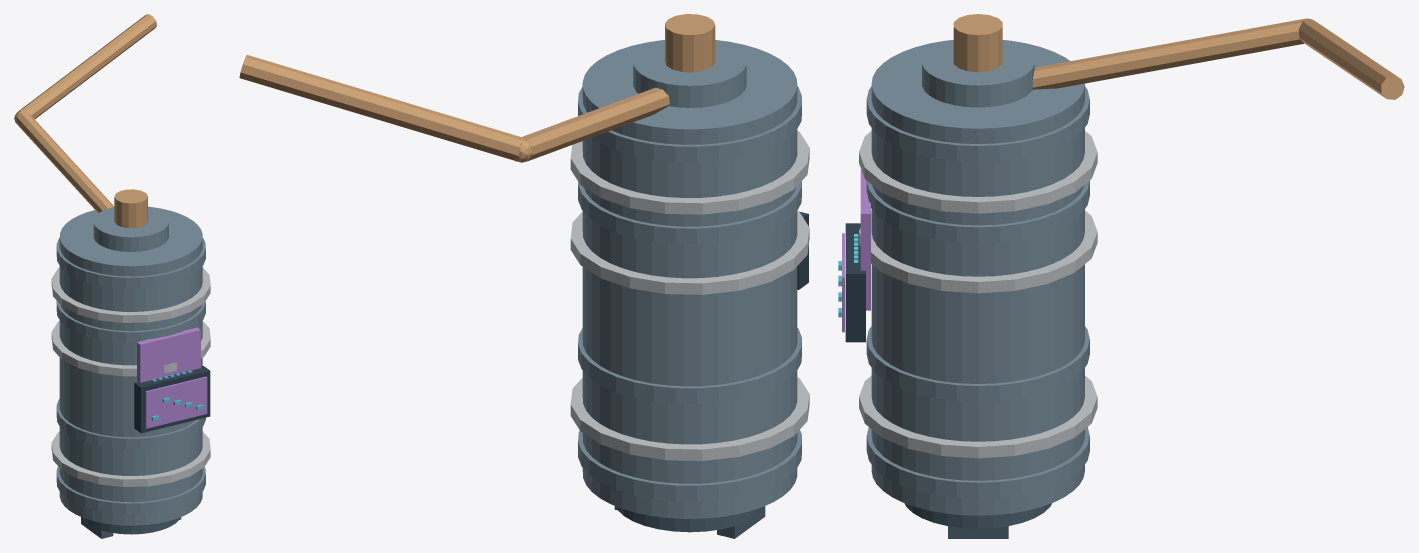
Rendered from 03_L75_VirtualDopantSourceCartridge.glb.
The picture shows the model from 3 angles, left to right: view 1: azimuth 30°, elevation 25°; view 2: azimuth 150°, elevation 25°; view 3: azimuth 270°, elevation 25°; orthographic projection. The views are drawn at different scales.
Parts seen in each view (by area): view 1: VirtualDopantSourceCartridge_Node_0000, VirtualDopantSourceCartridge_Node_0034, VirtualDopantSourceCartridge_Node_0010, VirtualDopantSourceCartridge_Node_0011, VirtualDopantSourceCartridge_Node_0025, VirtualDopantSourceCartridge_Node_0023, VirtualDopantSourceCartridge_Node_0027, VirtualDopantSourceCartridge_Node_0033, VirtualDopantSourceCartridge_Node_0008, VirtualDopantSourceCartridge_Node_0002, VirtualDopantSourceCartridge_Node_0004, VirtualDopantSourceCartridge_Node_0006 (+4 smaller); view 2: VirtualDopantSourceCartridge_Node_0000, VirtualDopantSourceCartridge_Node_0034, VirtualDopantSourceCartridge_Node_0024, VirtualDopantSourceCartridge_Node_0023, VirtualDopantSourceCartridge_Node_0025, VirtualDopantSourceCartridge_Node_0011, VirtualDopantSourceCartridge_Node_0004, VirtualDopantSourceCartridge_Node_0002, VirtualDopantSourceCartridge_Node_0006, VirtualDopantSourceCartridge_Node_0008, VirtualDopantSourceCartridge_Node_0033, VirtualDopantSourceCartridge_Node_0013 (+1 smaller); view 3: VirtualDopantSourceCartridge_Node_0000, VirtualDopantSourceCartridge_Node_0033, VirtualDopantSourceCartridge_Node_0011, VirtualDopantSourceCartridge_Node_0025, VirtualDopantSourceCartridge_Node_0023, VirtualDopantSourceCartridge_Node_0024, VirtualDopantSourceCartridge_Node_0004, VirtualDopantSourceCartridge_Node_0008, VirtualDopantSourceCartridge_Node_0002, VirtualDopantSourceCartridge_Node_0006, VirtualDopantSourceCartridge_Node_0034, VirtualDopantSourceCartridge_Node_0013 (+4 smaller).
Boxes of the visible parts, left/top/right/bottom form: VirtualDopantSourceCartridge_Node_0000: left=59, top=206, right=202, bottom=525; VirtualDopantSourceCartridge_Node_0034: left=17, top=14, right=156, bottom=118; VirtualDopantSourceCartridge_Node_0010: left=137, top=327, right=200, bottom=382; VirtualDopantSourceCartridge_Node_0011: left=93, top=207, right=168, bottom=251; VirtualDopantSourceCartridge_Node_0025: left=51, top=267, right=210, bottom=322; VirtualDopantSourceCartridge_Node_0023: left=51, top=431, right=210, bottom=486; VirtualDopantSourceCartridge_Node_0027: left=145, top=376, right=207, bottom=428; VirtualDopantSourceCartridge_Node_0033: left=15, top=112, right=114, bottom=213; VirtualDopantSourceCartridge_Node_0008: left=56, top=238, right=205, bottom=288; VirtualDopantSourceCartridge_Node_0002: left=56, top=466, right=205, bottom=513; VirtualDopantSourceCartridge_Node_0004: left=56, top=398, right=205, bottom=449; VirtualDopantSourceCartridge_Node_0006: left=56, top=301, right=205, bottom=342; VirtualDopantSourceCartridge_Node_0000: left=582, top=40, right=797, bottom=518; VirtualDopantSourceCartridge_Node_0034: left=239, top=55, right=524, bottom=161; VirtualDopantSourceCartridge_Node_0024: left=570, top=211, right=809, bottom=294; VirtualDopantSourceCartridge_Node_0023: left=570, top=377, right=809, bottom=460; VirtualDopantSourceCartridge_Node_0025: left=570, top=130, right=809, bottom=214; VirtualDopantSourceCartridge_Node_0011: left=633, top=40, right=746, bottom=107; VirtualDopantSourceCartridge_Node_0004: left=578, top=328, right=801, bottom=403; VirtualDopantSourceCartridge_Node_0002: left=578, top=430, right=801, bottom=501; VirtualDopantSourceCartridge_Node_0006: left=578, top=181, right=801, bottom=244; VirtualDopantSourceCartridge_Node_0008: left=578, top=86, right=801, bottom=162; VirtualDopantSourceCartridge_Node_0033: left=521, top=87, right=669, bottom=161; VirtualDopantSourceCartridge_Node_0013: left=665, top=14, right=715, bottom=72; VirtualDopantSourceCartridge_Node_0000: left=871, top=40, right=1084, bottom=515; VirtualDopantSourceCartridge_Node_0033: left=1032, top=18, right=1305, bottom=89; VirtualDopantSourceCartridge_Node_0011: left=922, top=40, right=1034, bottom=107; VirtualDopantSourceCartridge_Node_0025: left=859, top=131, right=1097, bottom=213; VirtualDopantSourceCartridge_Node_0023: left=859, top=375, right=1097, bottom=458; VirtualDopantSourceCartridge_Node_0024: left=859, top=210, right=1097, bottom=293; VirtualDopantSourceCartridge_Node_0004: left=866, top=326, right=1089, bottom=401; VirtualDopantSourceCartridge_Node_0008: left=866, top=86, right=1089, bottom=161; VirtualDopantSourceCartridge_Node_0002: left=866, top=427, right=1089, bottom=498; VirtualDopantSourceCartridge_Node_0006: left=866, top=180, right=1089, bottom=242; VirtualDopantSourceCartridge_Node_0034: left=1298, top=18, right=1404, bottom=99; VirtualDopantSourceCartridge_Node_0013: left=953, top=14, right=1002, bottom=72.
Size of the model in its own units: 1.26 by 1.93 by 1.8.
